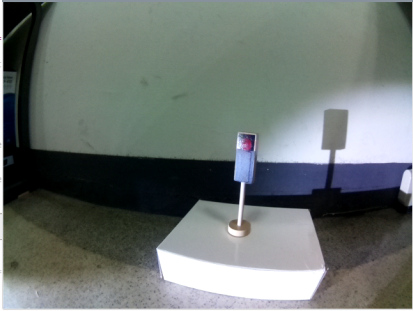Red: (231, 127, 260, 187)
